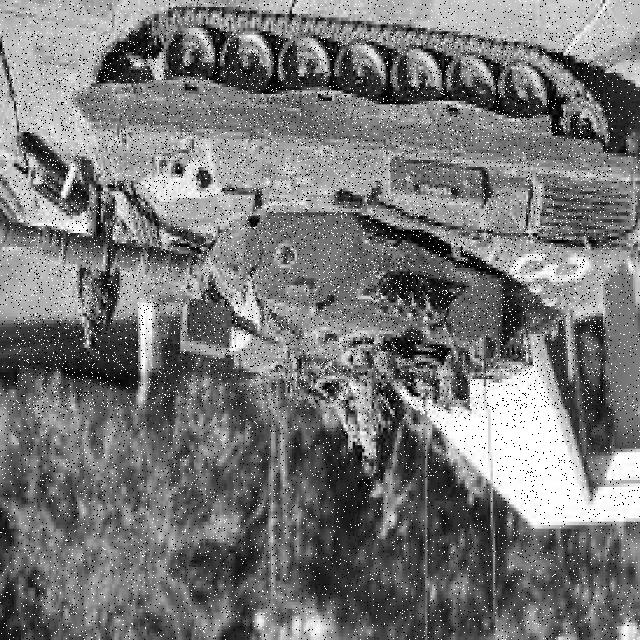MIL_MBT: (17, 33, 613, 408)
